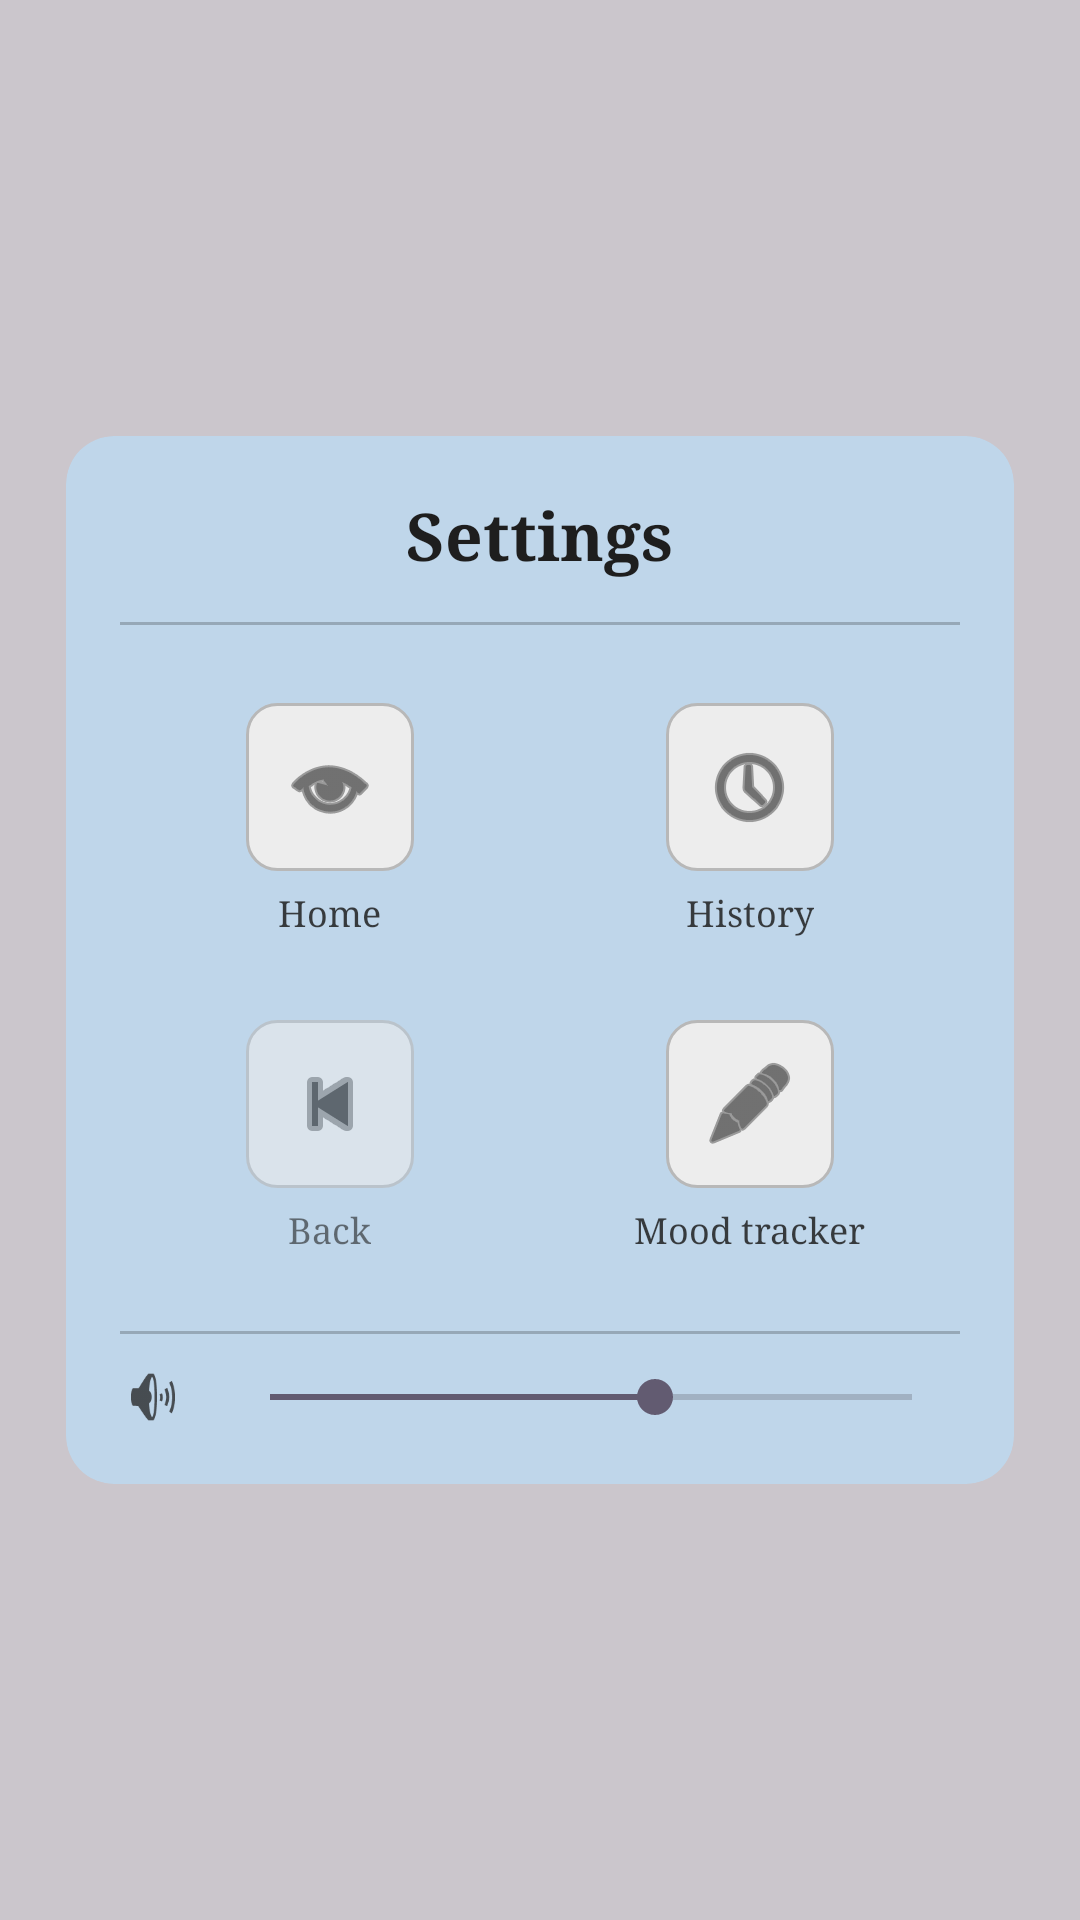

Icon bounding boxes for this 1080 × 1920 phone screenshot, format bbox(x1, y1, x2, y2):
Volume: bbox(131, 1373, 175, 1421)
